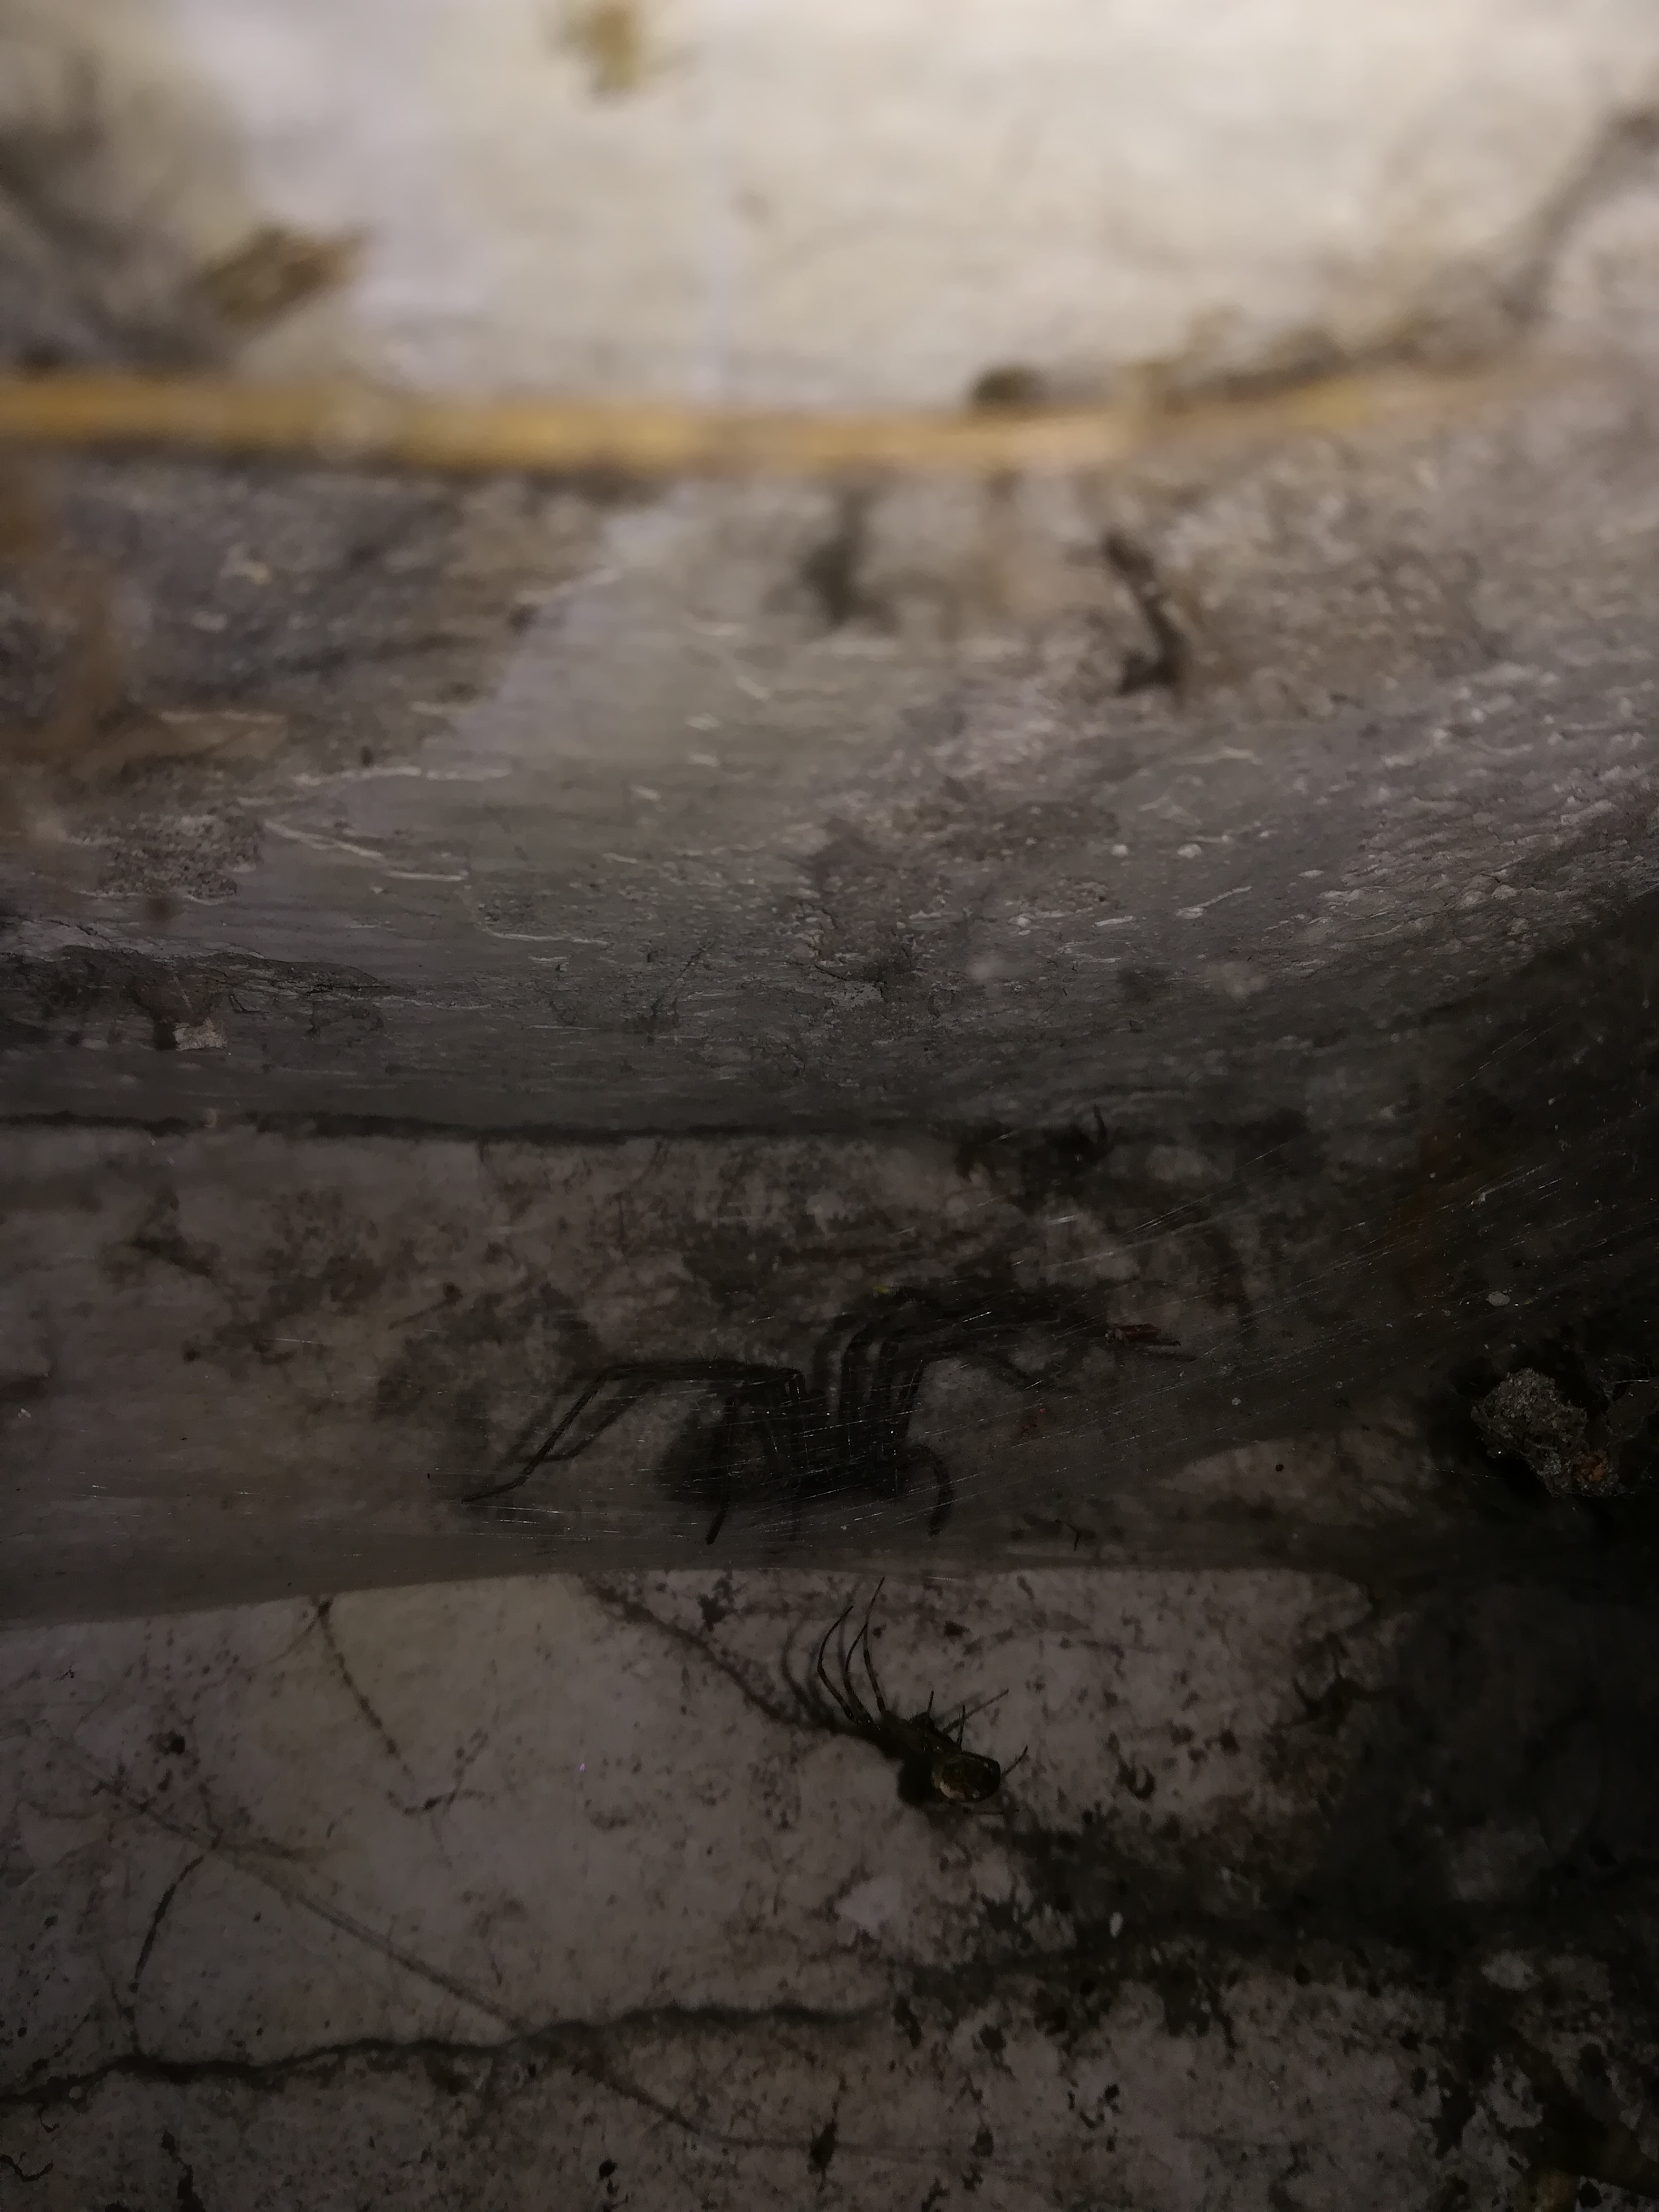spider: (467, 1237, 1208, 1594), (709, 1585, 1089, 1850)
